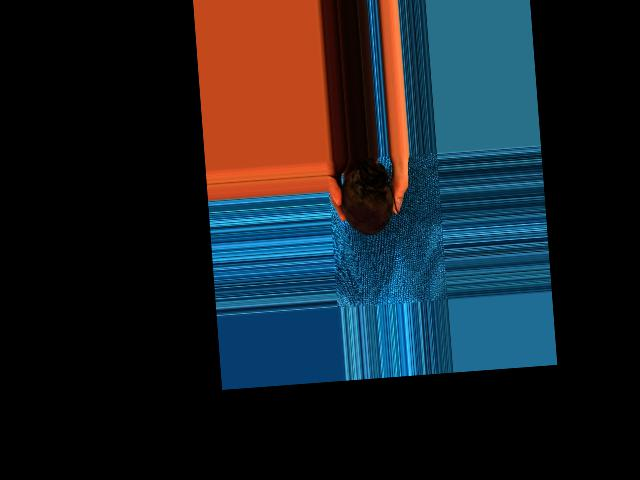beet: (338, 156, 402, 236)
